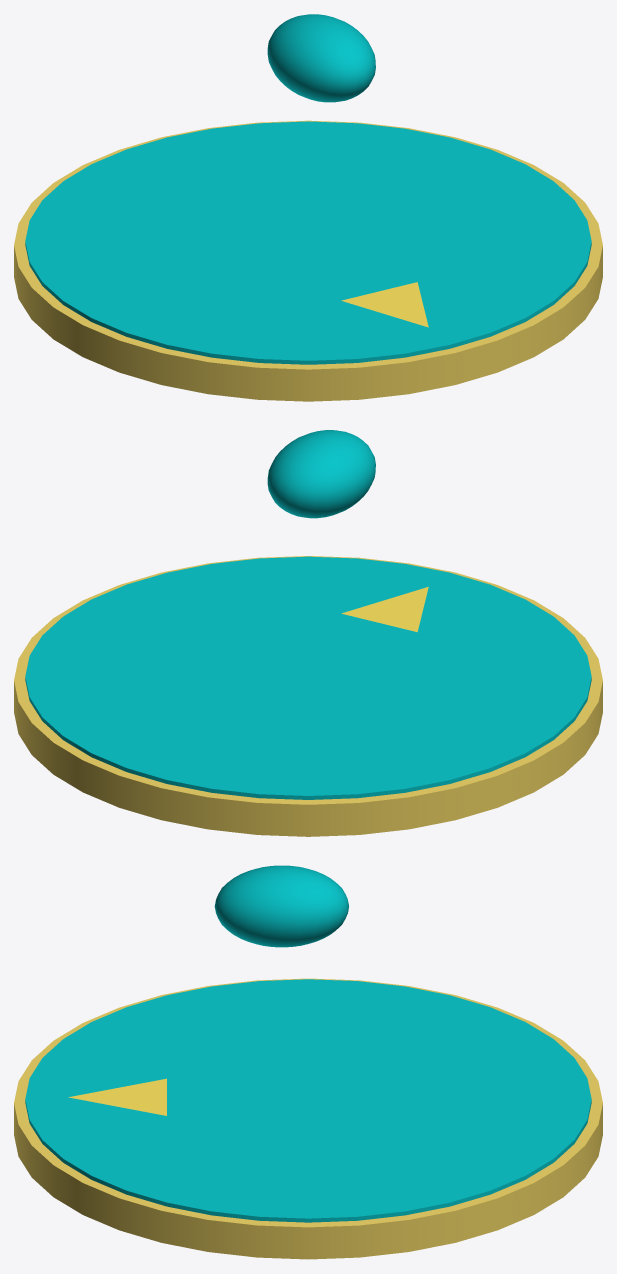
Rendered from dept5.glb.
3 views of the same model, one above another, from view 1: azimuth 30°, elevation 25°; view 2: azimuth 150°, elevation 25°; view 3: azimuth 270°, elevation 25° (orthographic).
Visible parts, largest first — view 1: PedestalBase, PedestalRim, SnakeHead, PedestalAccent; view 2: PedestalBase, PedestalRim, SnakeHead, PedestalAccent; view 3: PedestalBase, PedestalRim, SnakeHead, PedestalAccent.
Boxes of the visible parts, x1,y1,x2,y2 form: PedestalBase: [25, 121, 591, 364]; PedestalRim: [14, 120, 602, 401]; SnakeHead: [267, 14, 375, 102]; PedestalAccent: [341, 282, 428, 327]; PedestalBase: [25, 556, 591, 799]; PedestalRim: [14, 556, 602, 836]; SnakeHead: [267, 430, 375, 518]; PedestalAccent: [341, 587, 428, 632]; PedestalBase: [25, 979, 591, 1222]; PedestalRim: [14, 978, 602, 1259]; SnakeHead: [214, 865, 348, 947]; PedestalAccent: [68, 1078, 166, 1115].
Size of the model in its own units: 3.33 by 1.67 by 3.33.
